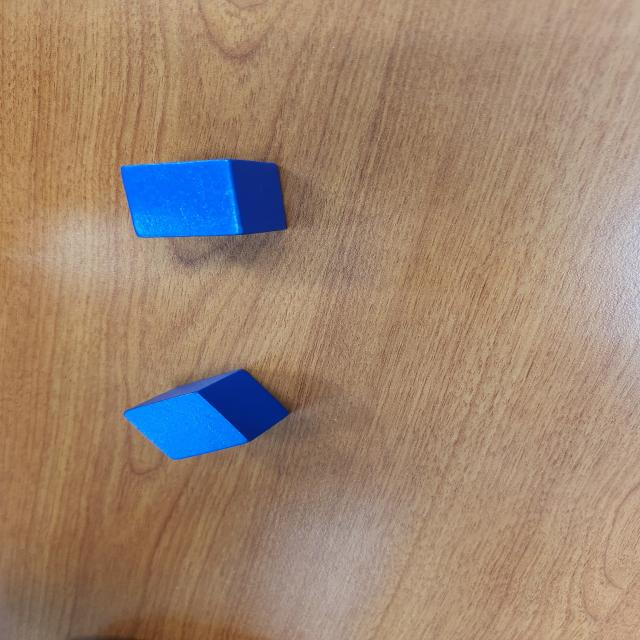blue: (121, 369, 290, 461), (118, 159, 290, 238)
